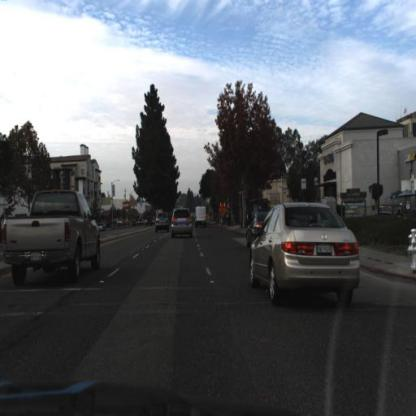car: (246, 199, 366, 311), (2, 183, 105, 295), (168, 203, 196, 243), (194, 201, 212, 233), (154, 209, 171, 236), (195, 204, 210, 227)
